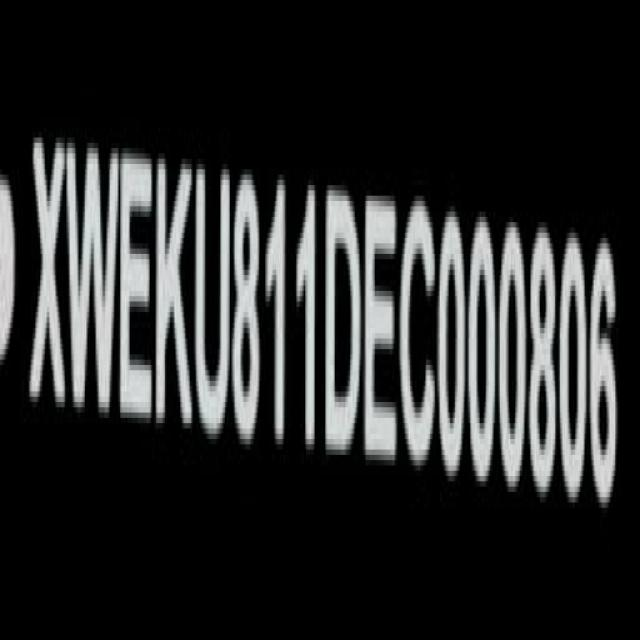0: (438, 202, 468, 480), (559, 234, 589, 508), (469, 210, 497, 490), (501, 221, 529, 495)
1: (264, 170, 290, 460), (298, 180, 322, 464)
6: (591, 236, 623, 516)
8: (231, 166, 262, 455), (529, 221, 558, 498)
C: (400, 192, 438, 480)
D: (324, 179, 362, 468)
E: (119, 144, 159, 434), (366, 183, 401, 477)
K: (154, 147, 196, 439)
U: (196, 158, 234, 449)
W: (68, 128, 121, 430)
X: (29, 129, 69, 423)
